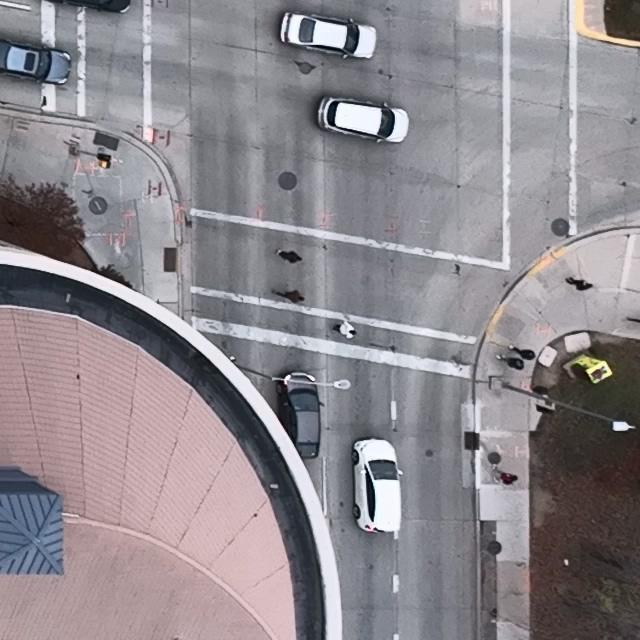car: (350, 436, 404, 534), (279, 10, 377, 60), (316, 95, 410, 144), (275, 369, 325, 459), (0, 38, 72, 86)
